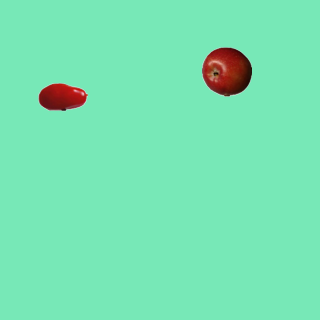Apple Braeburn: (201, 46, 251, 96)
Tomato 2: (37, 71, 87, 121)
